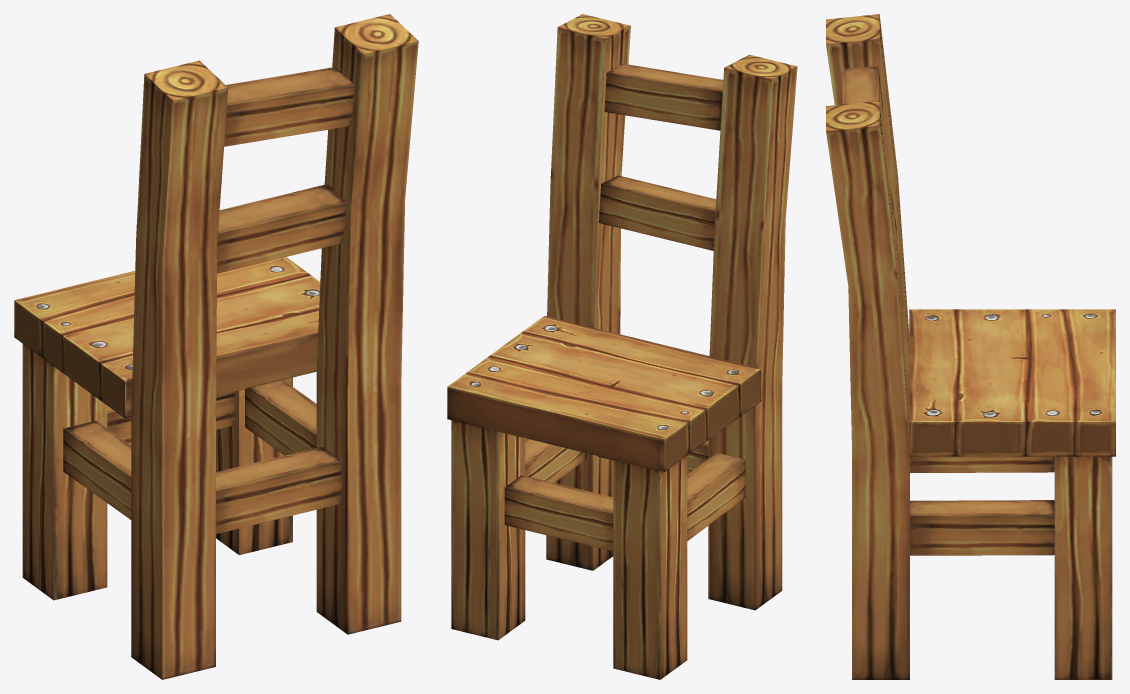
File: Chair_00.FBX
3 renders of one model, left to right at view 1: azimuth 30°, elevation 25°; view 2: azimuth 150°, elevation 25°; view 3: azimuth 270°, elevation 25°, orthographic. The views are drawn at different scales.
Visible parts, largest first — view 1: chair1:polySurface12; view 2: chair1:polySurface12; view 3: chair1:polySurface12.
Part boxes in pixels (bbox=[...]): chair1:polySurface12: bbox=[14, 14, 418, 679]; chair1:polySurface12: bbox=[447, 14, 797, 679]; chair1:polySurface12: bbox=[826, 14, 1115, 679].
Size of the model in its own units: 34.44 by 78.77 by 37.25.
